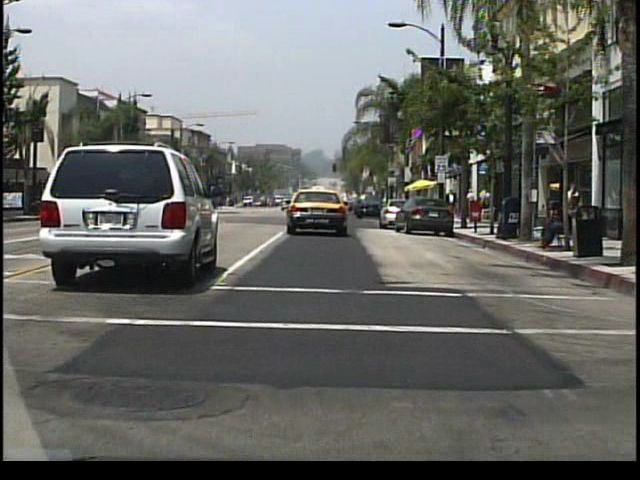person: (536, 199, 574, 253), (562, 177, 578, 236), (445, 184, 458, 220), (472, 182, 484, 220), (478, 186, 491, 221)
